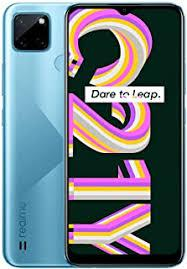Smartphone: (66, 5, 179, 264), (4, 5, 74, 269)
